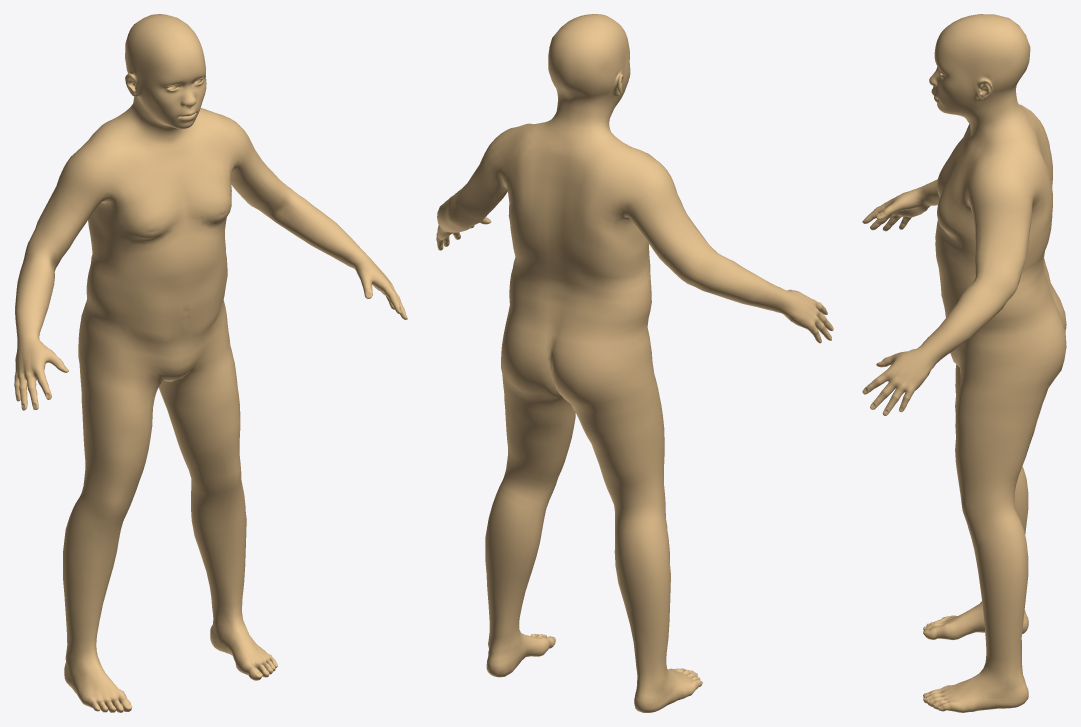
3 renders of one model, left to right at view 1: azimuth 30°, elevation 25°; view 2: azimuth 150°, elevation 25°; view 3: azimuth 270°, elevation 25°, orthographic.
Visible parts, largest first — view 1: Human; view 2: Human; view 3: Human.
Part boxes in pixels (x1=…): Human: x1=14, y1=14, x2=407, y2=712; Human: x1=436, y1=14, x2=833, y2=712; Human: x1=862, y1=14, x2=1066, y2=712.
Bounding box in the file's own units: 0.9476 × 1.55 × 0.4391.
